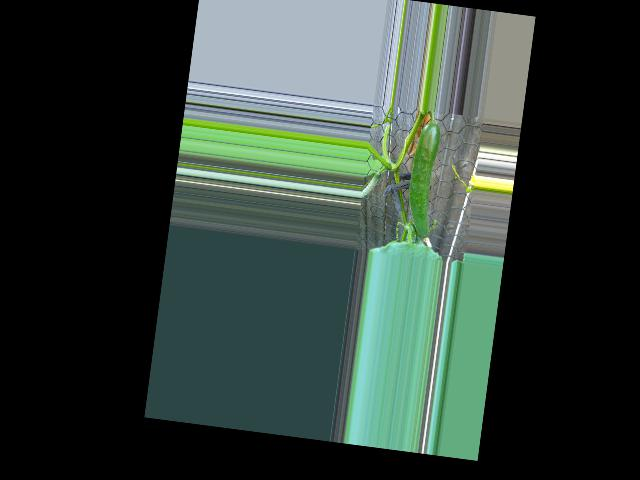cucumber: (402, 121, 442, 237)
